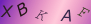A: (60, 8, 72, 23)
B: (16, 2, 28, 17)
F: (78, 7, 91, 18)
K: (35, 9, 48, 22)
X: (1, 4, 14, 18)
